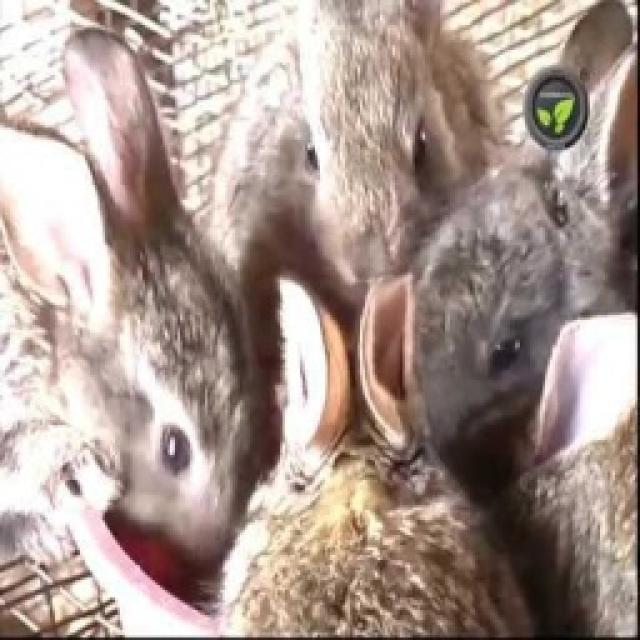not_pig: (0, 22, 280, 588), (216, 263, 528, 635), (400, 4, 637, 448), (205, 0, 498, 287)
